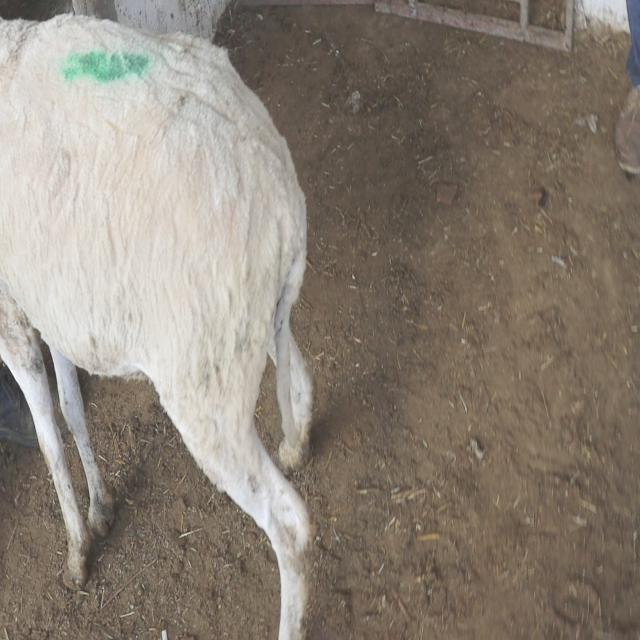Score_2: (0, 14, 312, 639)
